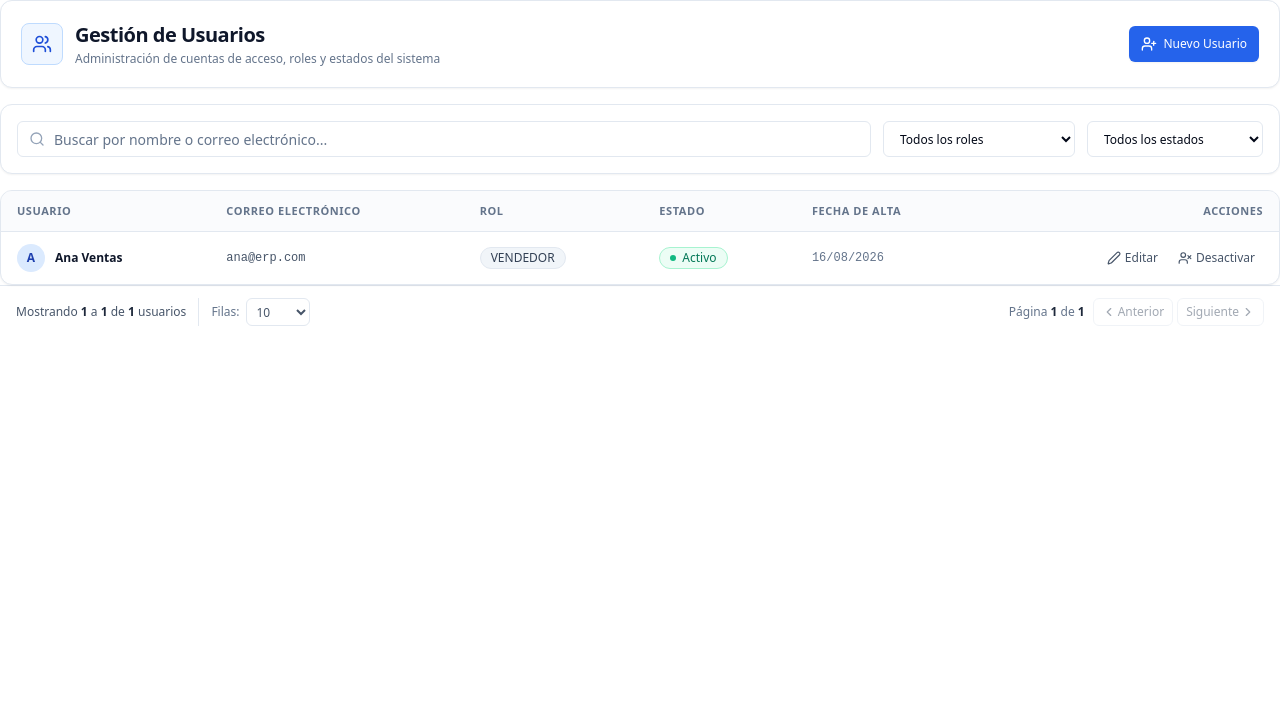
Test case: UsersPage administrative user management › User Editing Flow › opens edit modal preloaded without password, prevents no-op, and submits delta payload
The image size is (1280, 720).
Click the button "Editar": [1132, 258] box [1099, 244, 1166, 272]
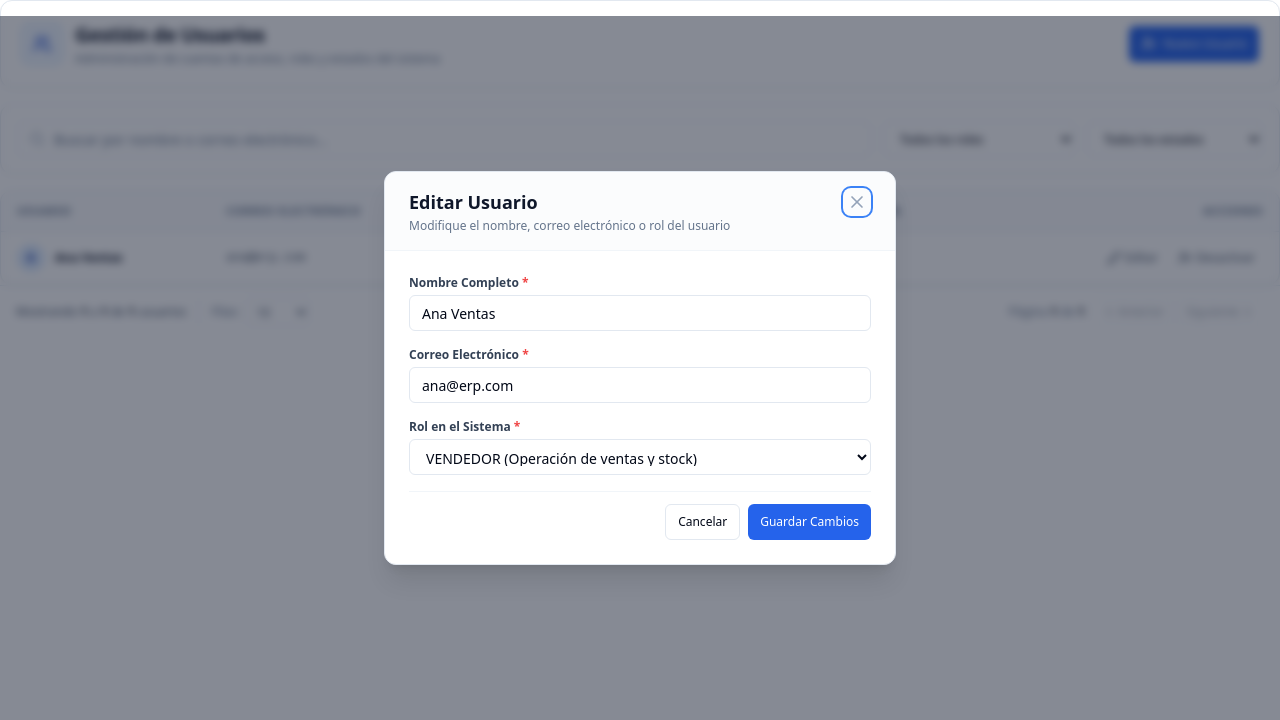
Result: the dialog is shown at [384, 171, 896, 565]
Result: the heading "Editar Usuario" is shown at [409, 190, 538, 214]
Result: the field labelled "Nombre Completo *" holds "Ana Ventas" at [409, 295, 871, 331]
Click the button "Guardar Cambios": [810, 522] box [748, 504, 871, 540]
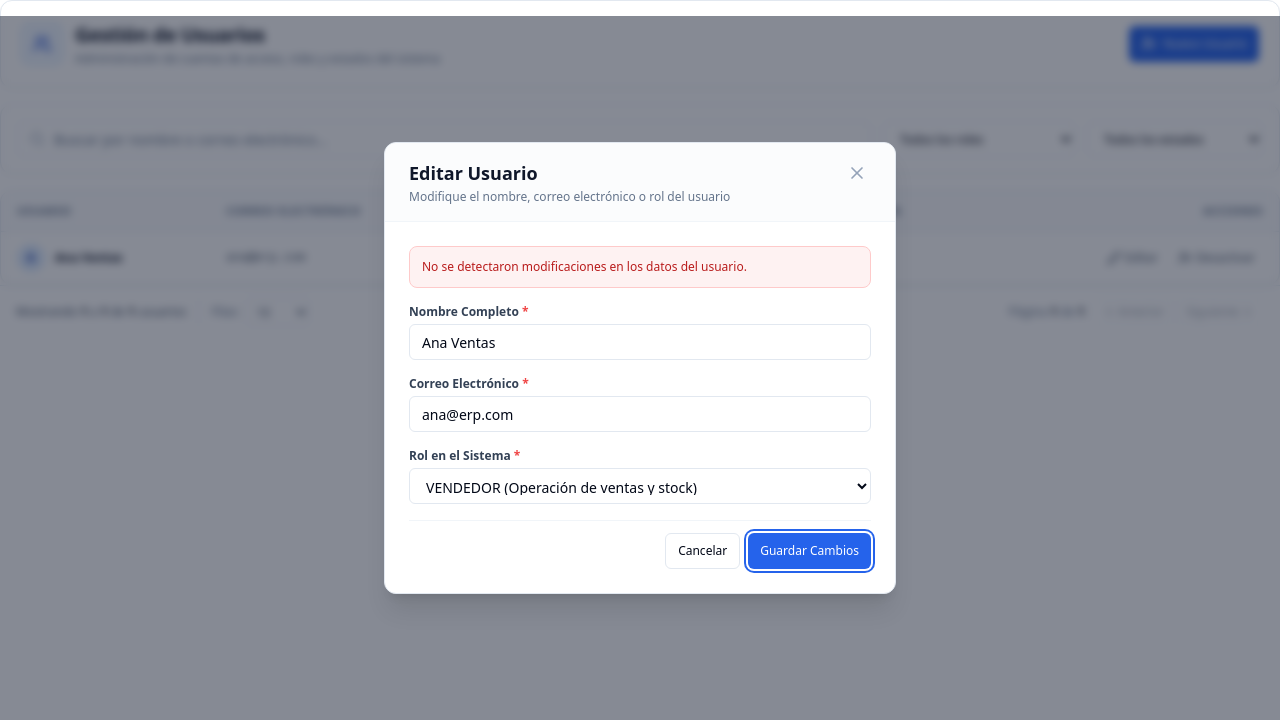
Result: the text "No se detectaron modificaciones en los datos del usuario." is shown at [409, 246, 871, 288]
# Modify name only
Clear the field labelled "Nombre Completo *": [640, 342] box [409, 324, 871, 360]
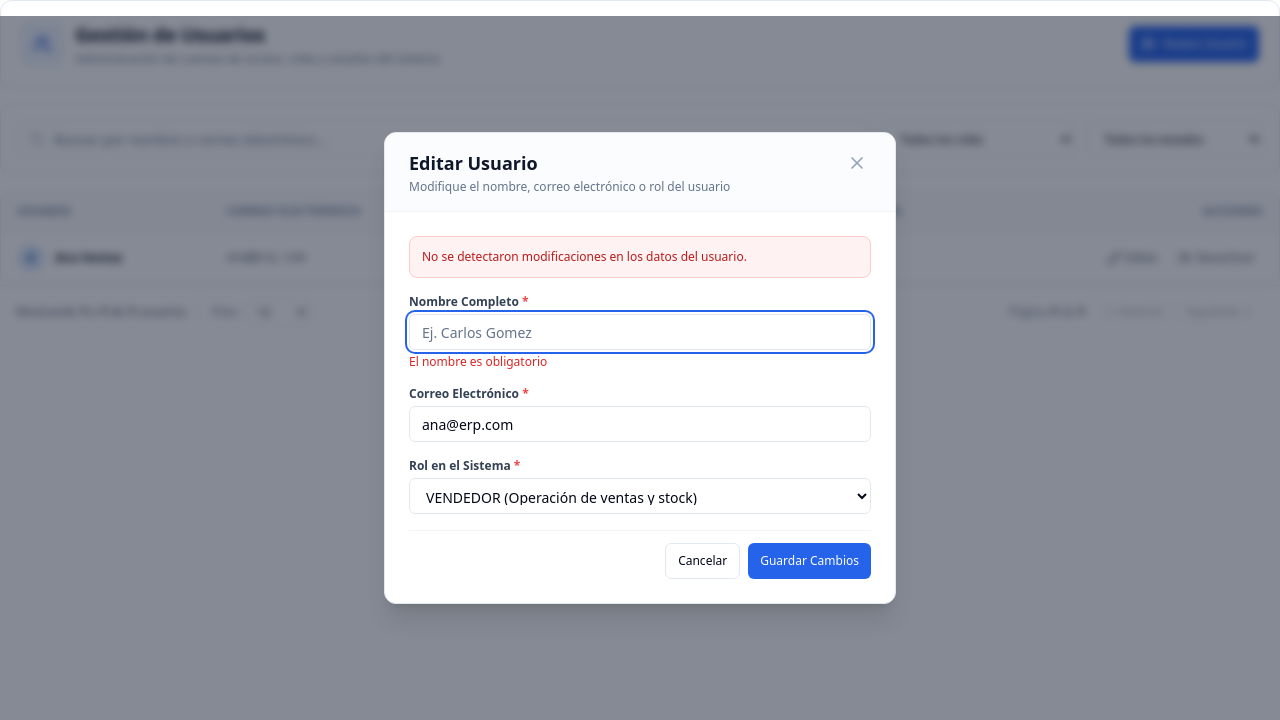
In the field labelled "Nombre Completo *": [640, 332] box [409, 314, 871, 350], type "Ana Ventas Modificada"
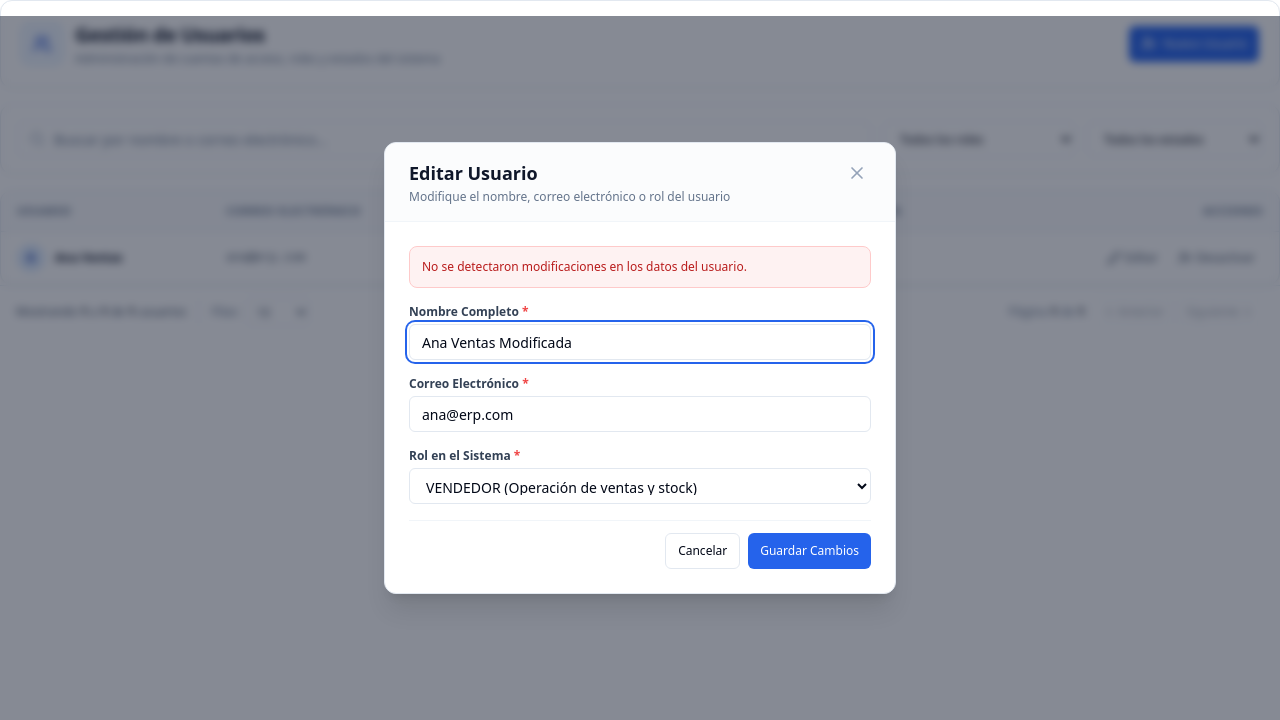
Click the button "Guardar Cambios": [810, 551] box [748, 533, 871, 569]
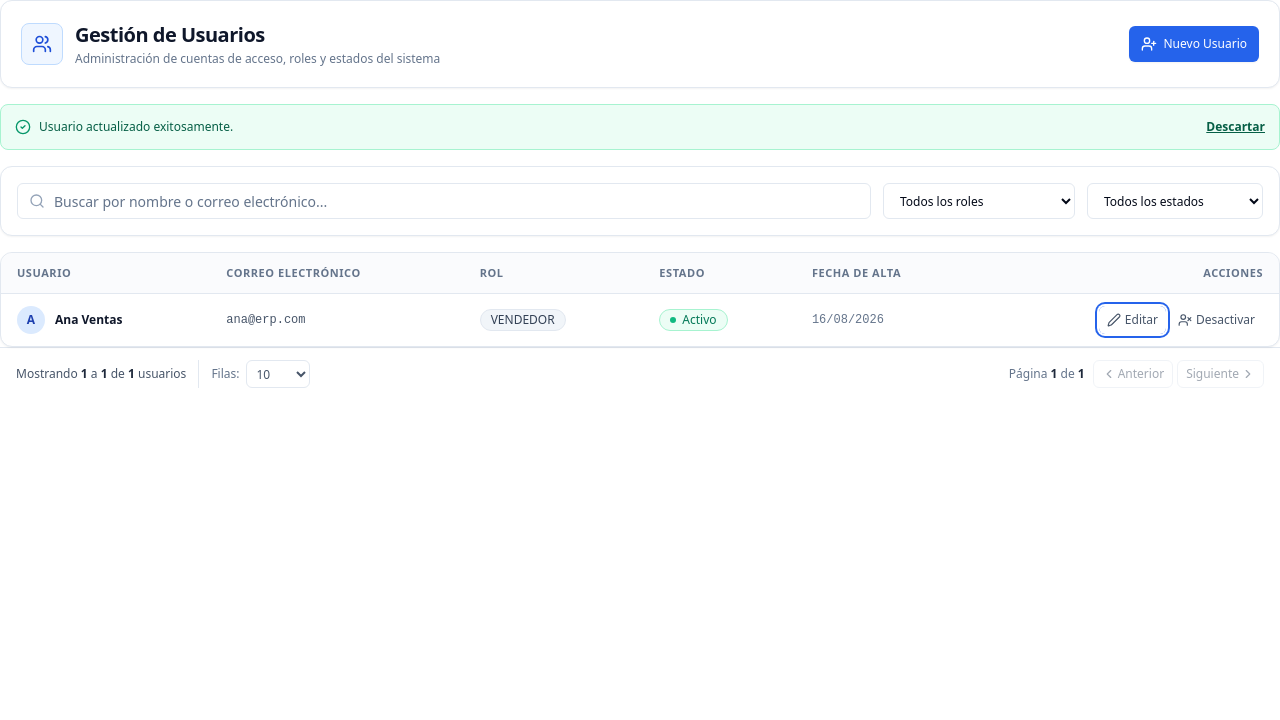
Result: the dialog is gone
Result: the text "Usuario actualizado exitosamente." is shown at [39, 119, 233, 135]
